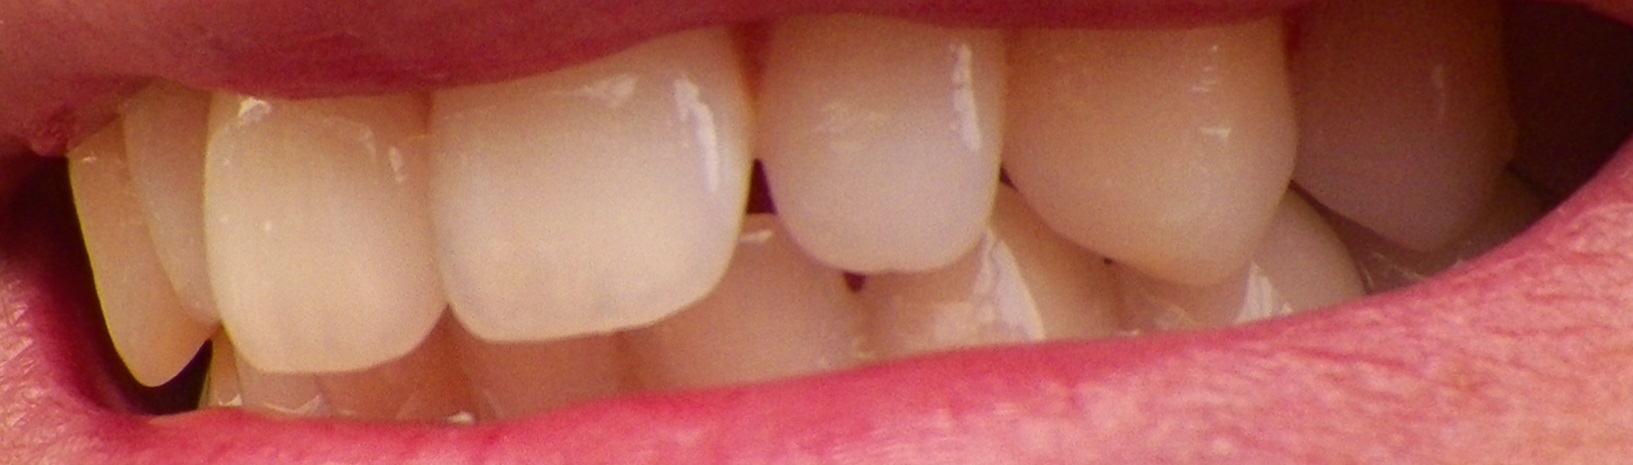boca: (27, 21, 1544, 406)
